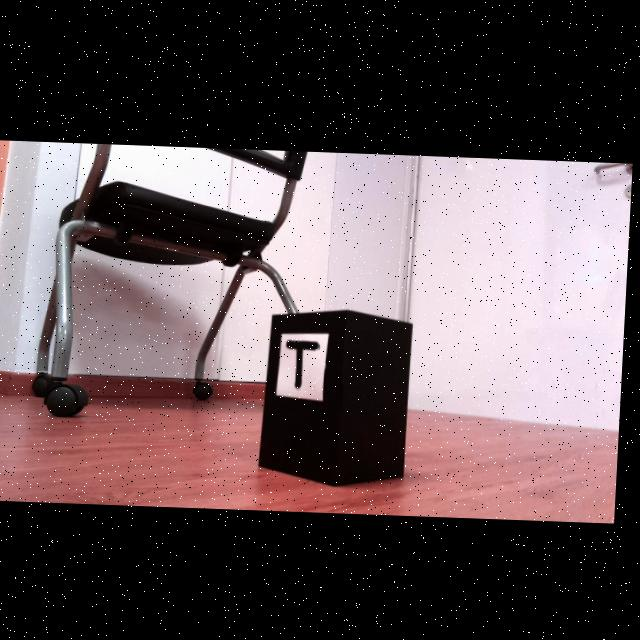T: (290, 338, 322, 387)
